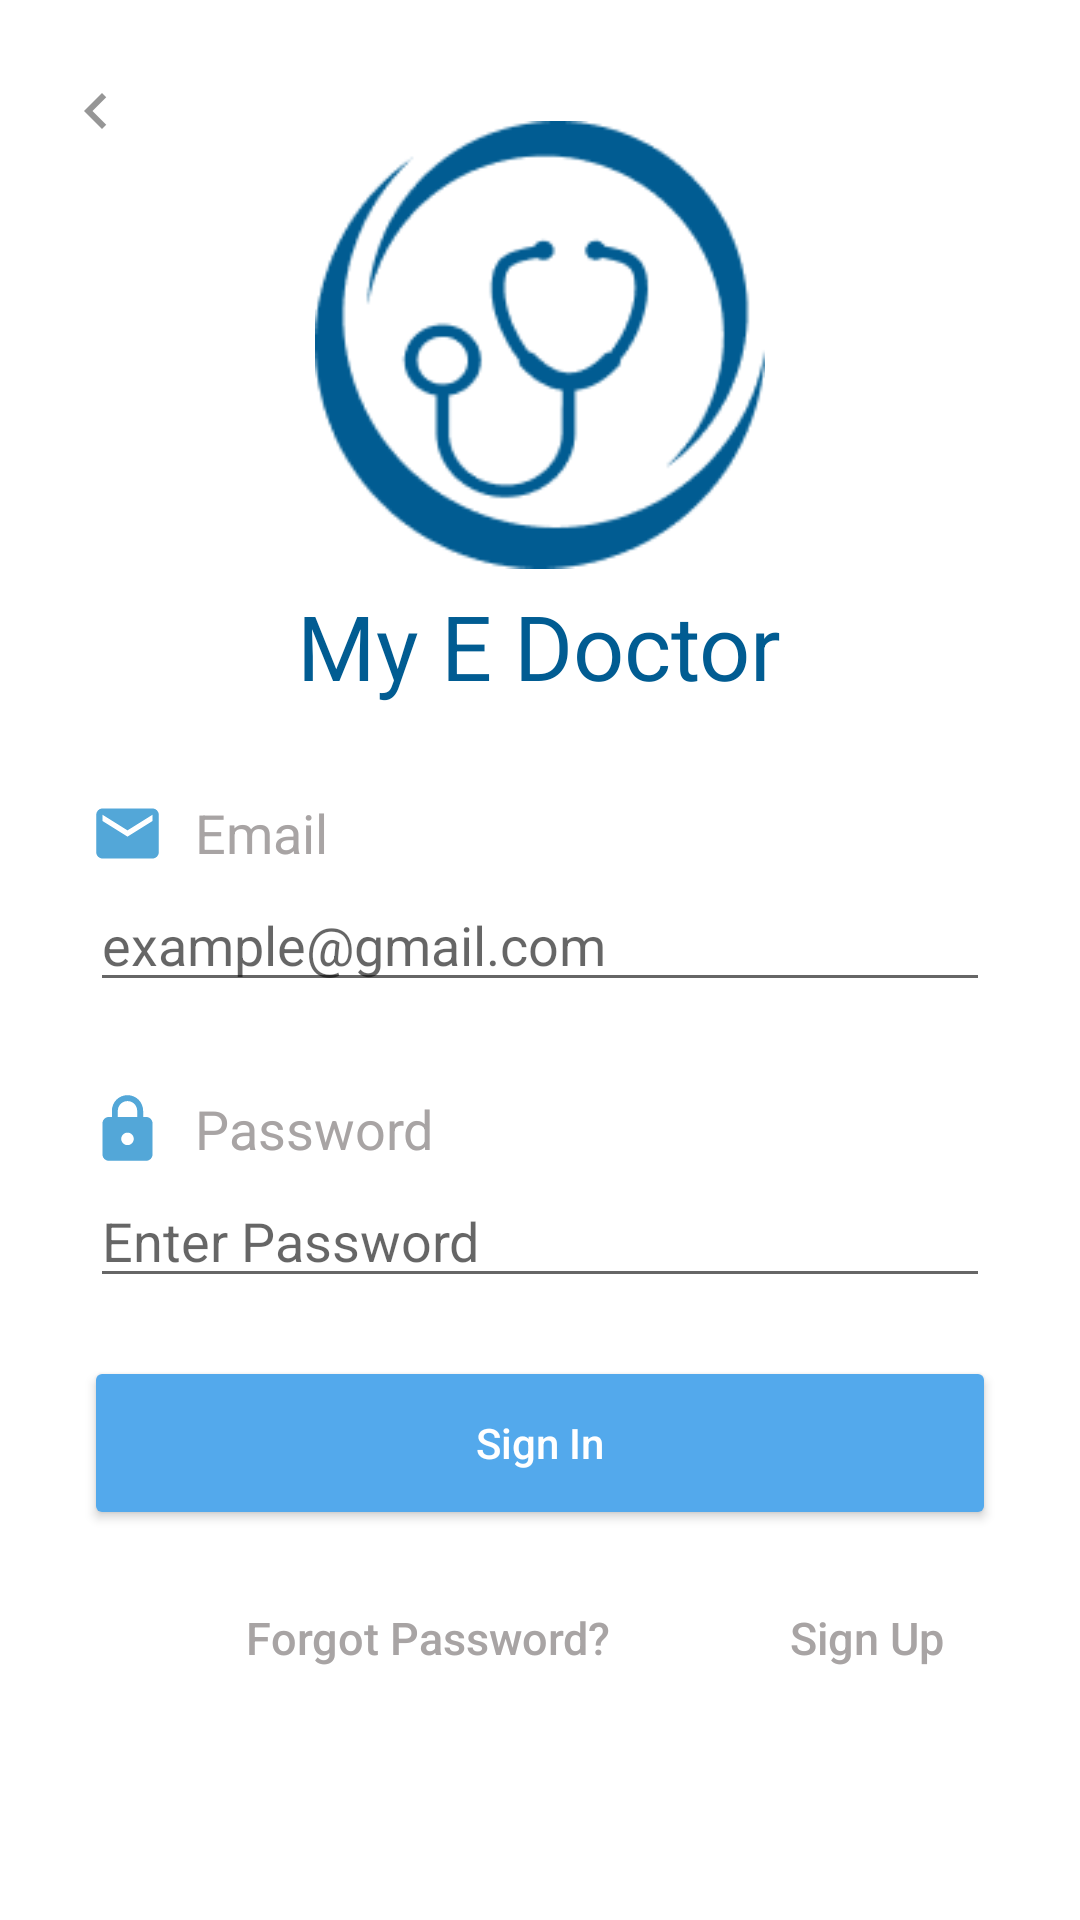

Named icons in this screenshot (1080w x 1920h) and their centers, (x=x, y=y):
back: (x=95, y=111)
